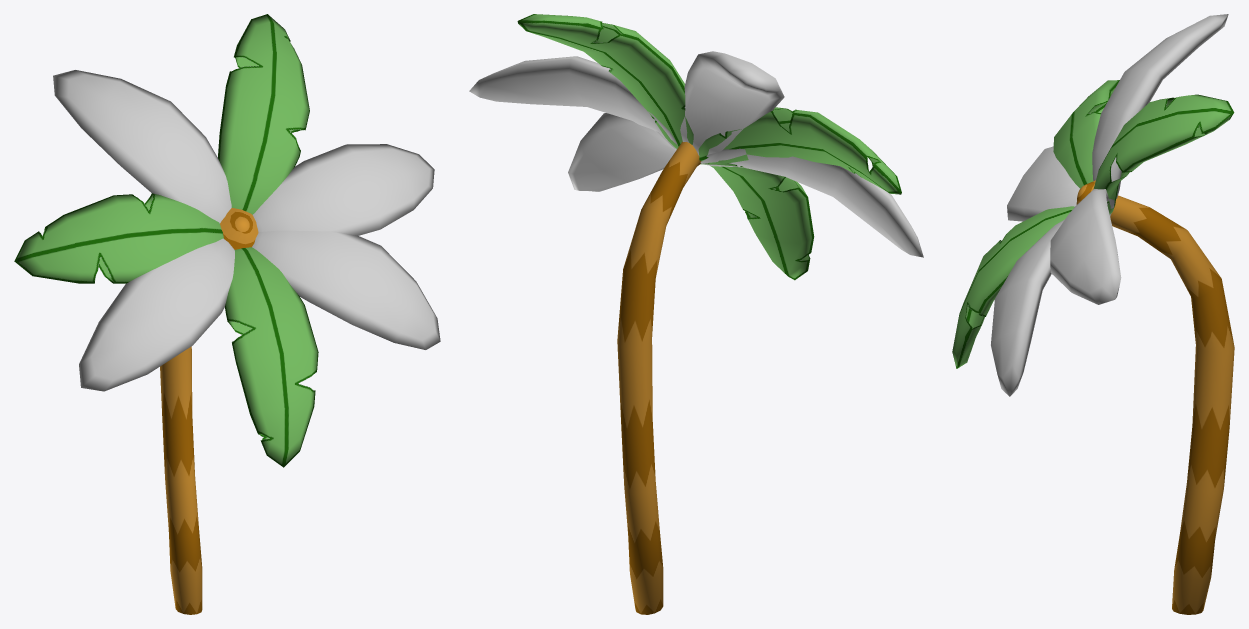
Rendered from PalmTree.fbx.
3 views of the same model, side by side, from view 1: azimuth 30°, elevation 25°; view 2: azimuth 150°, elevation 25°; view 3: azimuth 270°, elevation 25° (orthographic). The views are drawn at different scales.
Visible parts, largest first — view 1: PalmTree1; view 2: PalmTree1; view 3: PalmTree1.
Boxes of the visible parts, left/top/right/bottom form: PalmTree1: left=14, top=14, right=440, bottom=614; PalmTree1: left=469, top=14, right=923, bottom=614; PalmTree1: left=952, top=14, right=1234, bottom=614.
Size of the model in its own units: 1.95 by 2.49 by 1.16.
